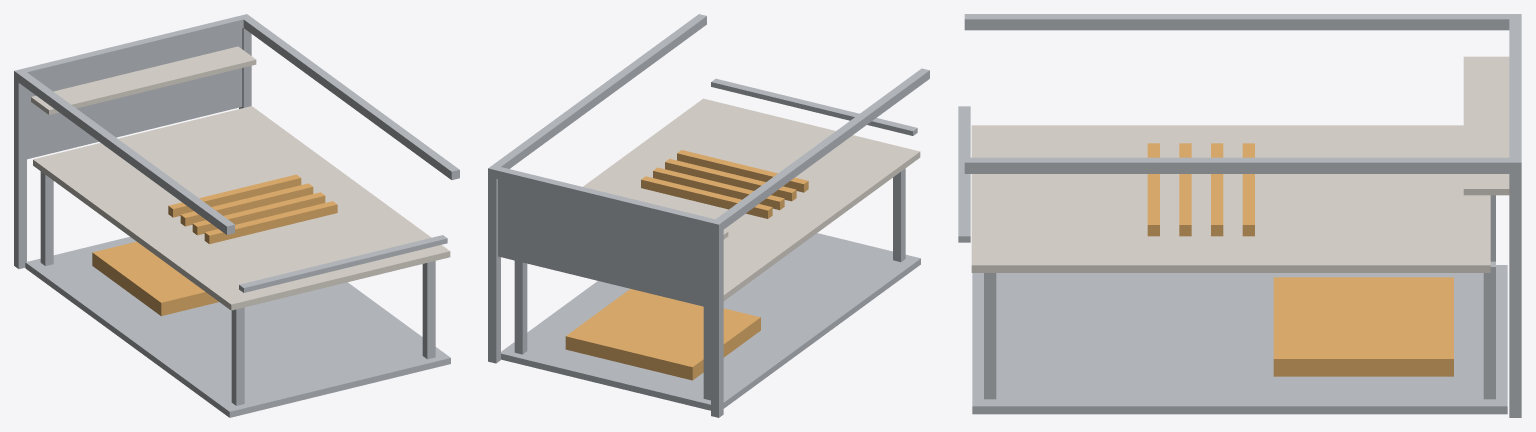
The picture shows the model from 3 angles, left to right: view 1: azimuth 30°, elevation 25°; view 2: azimuth 150°, elevation 25°; view 3: azimuth 270°, elevation 25°; orthographic projection. The views are drawn at different scales.
Parts seen in each view (by area): view 1: frame, bench, workzone; view 2: frame, bench, workzone; view 3: frame, bench, workzone.
Boxes of the visible parts, box(x1,y1,x2,y2) form: frame: box(14, 14, 459, 417); bench: box(31, 46, 450, 310); workzone: box(92, 174, 337, 316); frame: box(488, 14, 929, 417); bench: box(583, 98, 920, 300); workzone: box(565, 150, 808, 380); frame: box(958, 14, 1521, 417); bench: box(971, 56, 1509, 272); workzone: box(1147, 143, 1453, 376).
Size of the model in its own units: 2 by 1.6 by 3.2.
